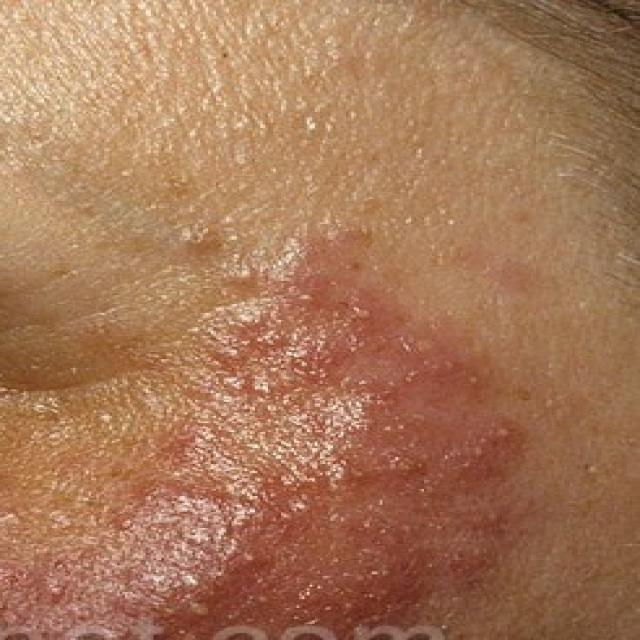Rosacea: (168, 316, 526, 611)
